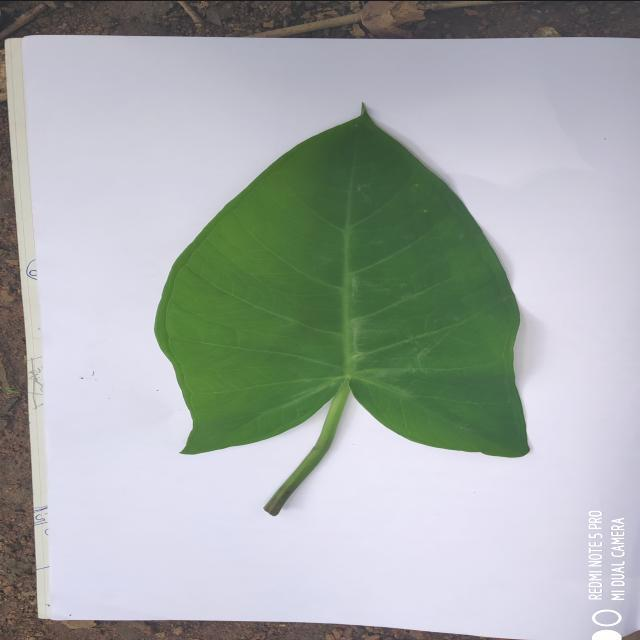leaf: (153, 100, 530, 515)
